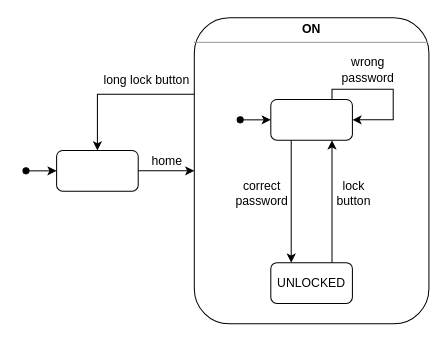
Image size: 447x342. Some labels were removed from this diagram. The shapes that lost their labels are listed below. From the top down, each one's centre as x and y in pixels, then its label:
the point at 311,119: LOCKED
the point at 97,170: OFF
